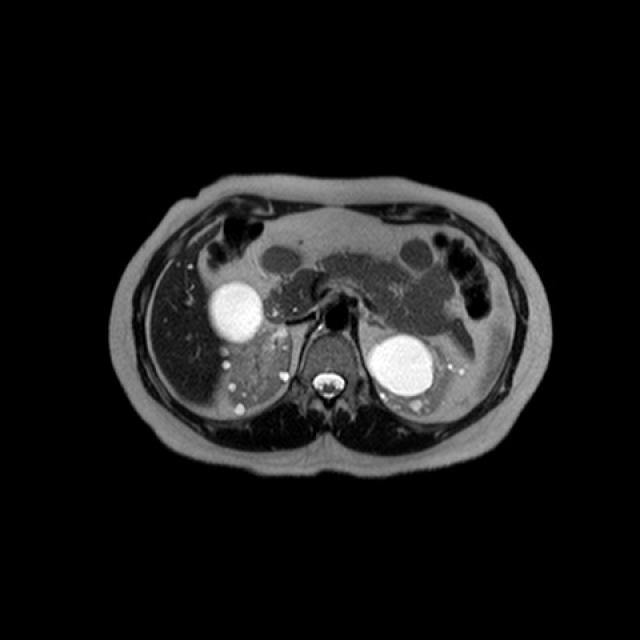sag: (206, 279, 294, 414)
sol: (363, 331, 465, 419)
